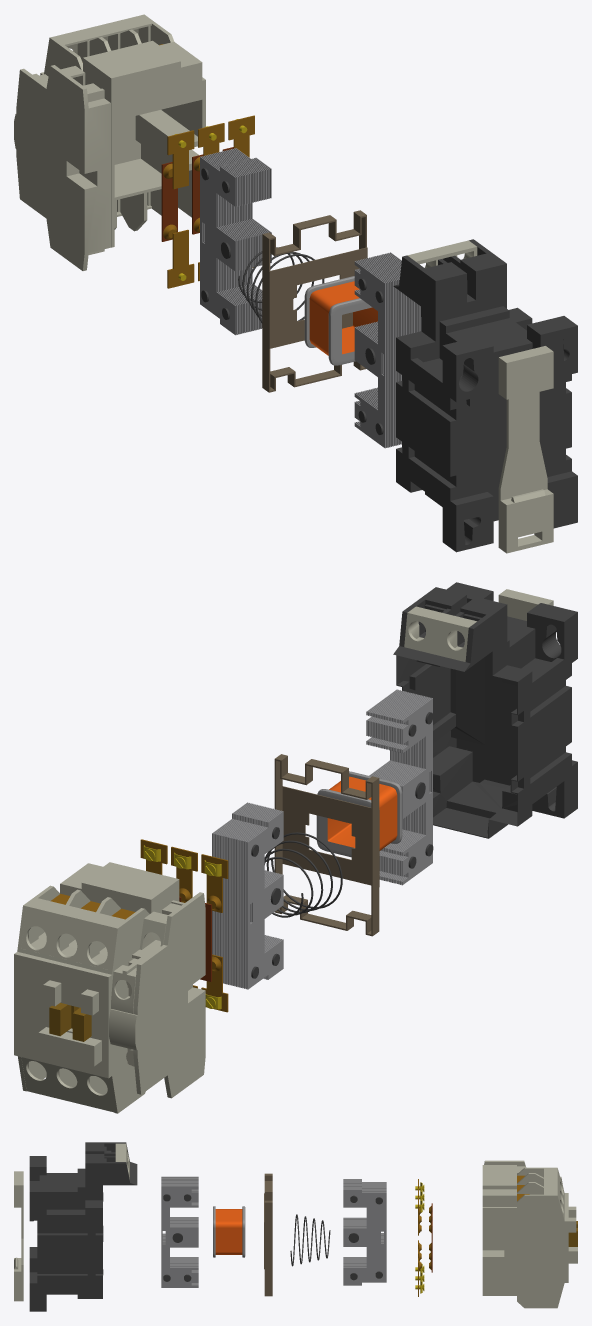
File: CONTACTOR_EXPLOTADO.obj
The picture shows the model from 3 angles, top to bottom: view 1: azimuth 30°, elevation 25°; view 2: azimuth 150°, elevation 25°; view 3: azimuth 270°, elevation 25°; orthographic projection. The views are drawn at different scales.
Parts seen in each view (by area): view 1: magnetic_contactor002, Box004, Object016, Object001, magnetic_contactor004, Cylinder001, Box181, Box182, Tube002, Box238, Box227, Helix001 (+4 smaller); view 2: magnetic_contactor002, Box004, Object016, magnetic_contactor004, Box181, Tube002, Cylinder001, Box182, Object015, Tube003, Object003, Helix001 (+4 smaller); view 3: Box004, magnetic_contactor002, Box225, Box226, Cylinder001, magnetic_contactor004, Object001, Helix001, Tube002, Object015, Object016.
Boxes of the visible parts, <box> form: magnetic_contactor002: <box>393,239,577,552</box>; Box004: <box>40,14,205,247</box>; Object016: <box>14,65,110,270</box>; Object001: <box>498,346,553,553</box>; magnetic_contactor004: <box>262,210,367,392</box>; Cylinder001: <box>304,276,377,365</box>; Box181: <box>200,156,236,335</box>; Box182: <box>354,261,385,448</box>; Tube002: <box>53,15,151,54</box>; Box238: <box>167,229,194,288</box>; Box227: <box>167,130,194,189</box>; Helix001: <box>238,247,324,323</box>; magnetic_contactor002: <box>393,582,577,838</box>; Box004: <box>14,862,179,1113</box>; Object016: <box>109,892,205,1098</box>; magnetic_contactor004: <box>274,754,379,936</box>; Box181: <box>247,811,283,989</box>; Tube002: <box>21,898,124,969</box>; Cylinder001: <box>316,771,402,857</box>; Box182: <box>401,698,432,885</box>; Object015: <box>404,606,476,661</box>; Tube003: <box>21,1057,113,1112</box>; Object003: <box>111,911,167,1013</box>; Helix001: <box>264,832,342,917</box>; Box004: <box>482,1165,577,1308</box>; magnetic_contactor002: <box>29,1142,137,1311</box>; Box225: <box>343,1189,386,1285</box>; Box226: <box>161,1187,198,1287</box>; Cylinder001: <box>213,1206,245,1257</box>; magnetic_contactor004: <box>264,1173,272,1296</box>; Object001: <box>14,1171,23,1301</box>; Helix001: <box>290,1214,330,1266</box>; Tube002: <box>544,1168,563,1216</box>; Object015: <box>115,1143,129,1179</box>; Object016: <box>484,1160,562,1185</box>.
Size of the model in its own units: 44.01 by 80.3 by 290.
